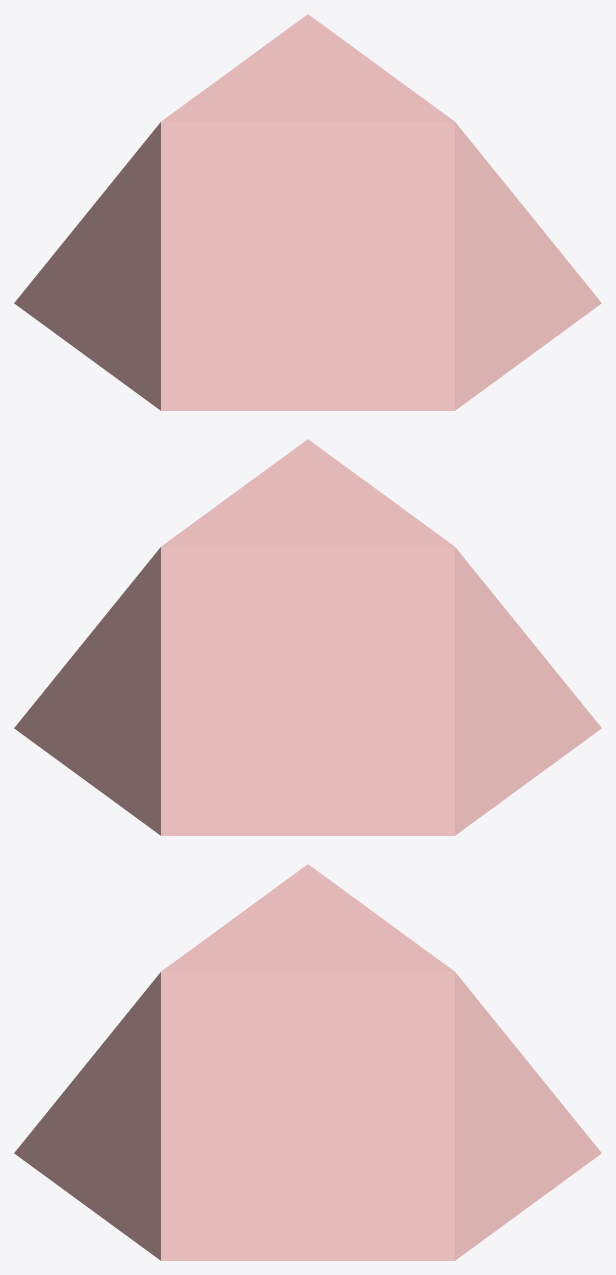
3 renders of one model, top to bottom at view 1: azimuth 30°, elevation 25°; view 2: azimuth 150°, elevation 25°; view 3: azimuth 270°, elevation 25°, orthographic.
Parts seen in each view (by area): view 1: Model; view 2: Model; view 3: Model.
Part boxes in pixels (left/top/right/bottom): Model: left=14, top=14, right=601, bottom=410; Model: left=14, top=439, right=601, bottom=835; Model: left=14, top=864, right=601, bottom=1260.
Size of the model in its own units: 6.93 by 3.26 by 8.
